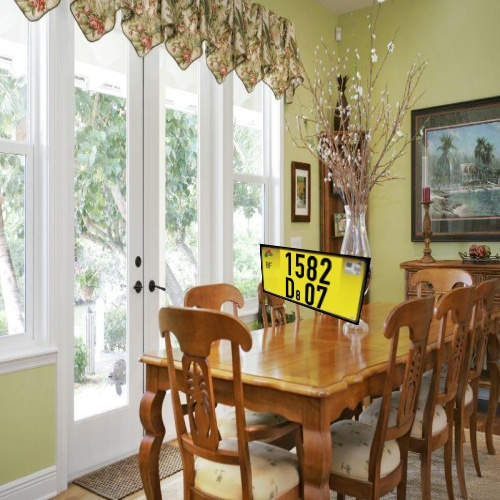plate: (248, 230, 383, 331)
